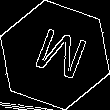M_S: (23, 24, 87, 86)
